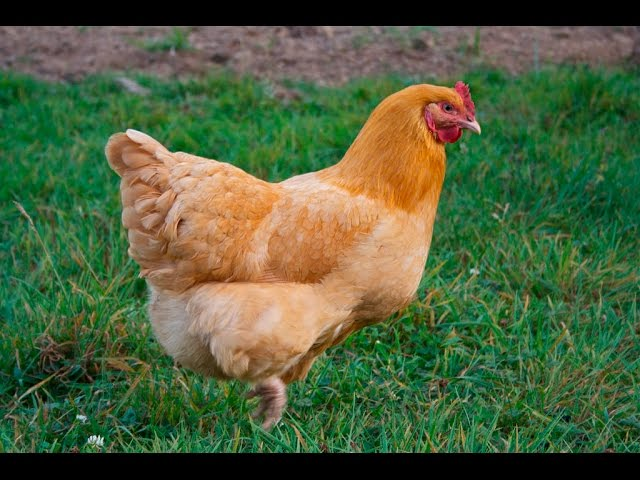buff: (205, 82, 503, 316)
